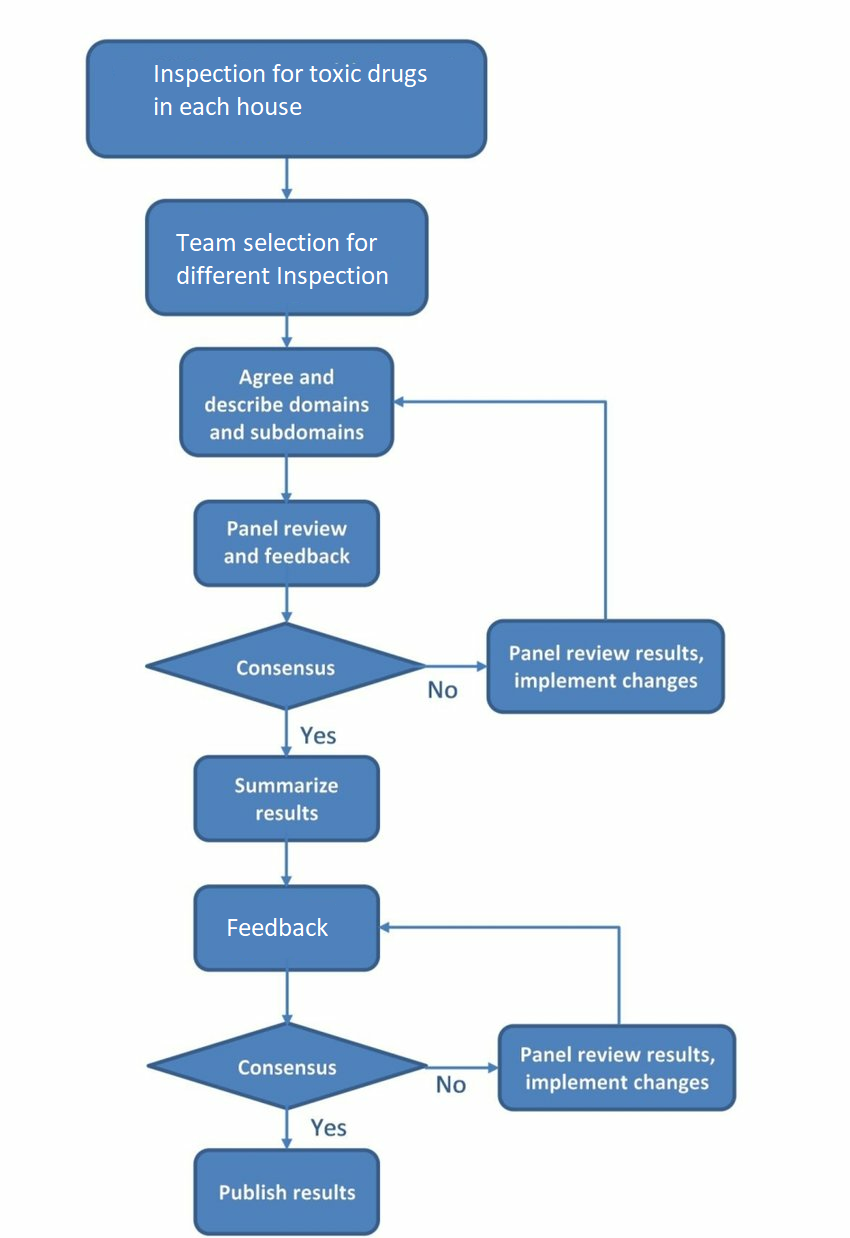arrow: (381, 391, 621, 623), (375, 919, 626, 1030), (420, 1057, 505, 1080), (417, 658, 491, 684), (271, 836, 301, 892), (277, 964, 300, 1031), (275, 709, 302, 760), (275, 450, 298, 508), (275, 1106, 301, 1153), (276, 154, 297, 204), (275, 306, 298, 351), (275, 586, 298, 630)
decision: (141, 1017, 432, 1111), (141, 619, 432, 709)
process: (76, 35, 493, 163), (137, 192, 432, 322), (175, 343, 398, 463), (478, 615, 733, 718), (491, 1019, 744, 1117), (186, 495, 386, 593), (188, 748, 388, 846), (186, 880, 390, 974), (188, 1144, 388, 1237)
text: (139, 58, 433, 124), (163, 225, 397, 299), (195, 360, 374, 449), (502, 637, 708, 702), (515, 1043, 720, 1100), (217, 514, 360, 569), (225, 773, 344, 823), (215, 1176, 358, 1206), (219, 910, 336, 945), (223, 652, 338, 682), (232, 1052, 345, 1082), (432, 1070, 481, 1101), (300, 1113, 358, 1137), (298, 719, 338, 750), (417, 674, 466, 699)
